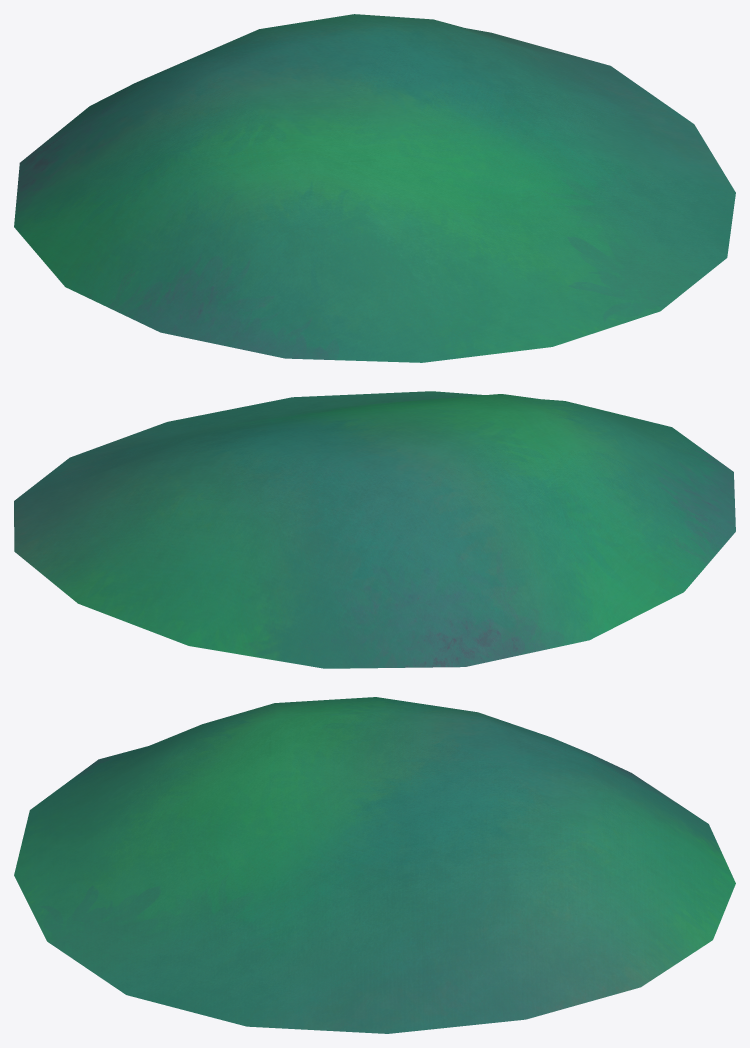
File: bg_grass.fbx
3 renders of one model, top to bottom at view 1: azimuth 30°, elevation 25°; view 2: azimuth 150°, elevation 25°; view 3: azimuth 270°, elevation 25°, orthographic. The views are drawn at different scales.
Visible parts, largest first — view 1: Cube; view 2: Cube; view 3: Cube.
Boxes of the visible parts, bbox=[...] form: Cube: bbox=[14, 14, 735, 362]; Cube: bbox=[14, 391, 735, 668]; Cube: bbox=[14, 697, 735, 1033].
Size of the model in its own units: 210 by 40.6 by 212.
Materials: 1 (1 with a texture image).
